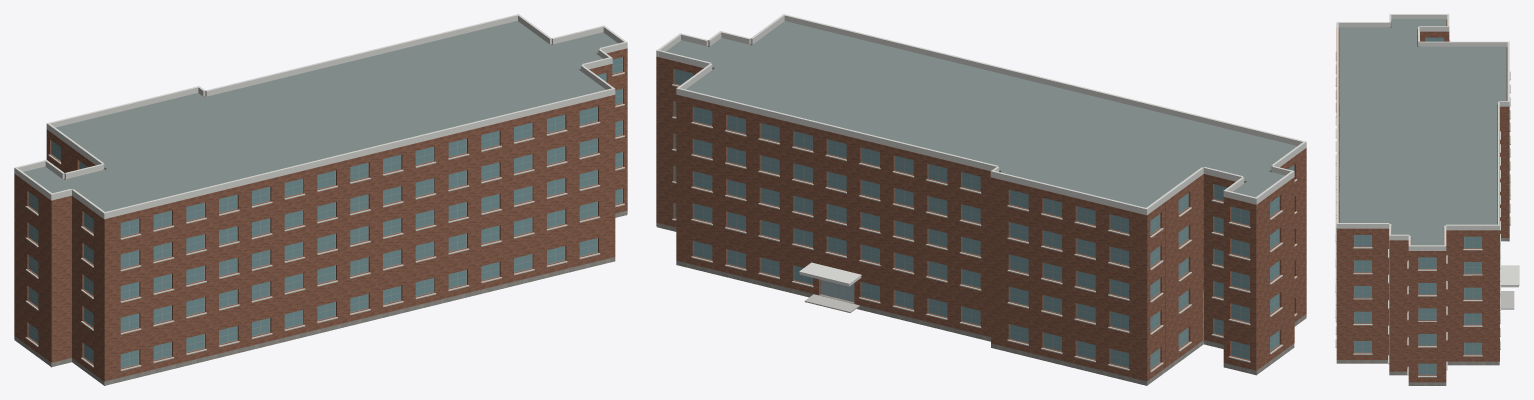
3 views of the same model, side by side, from view 1: azimuth 30°, elevation 25°; view 2: azimuth 150°, elevation 25°; view 3: azimuth 270°, elevation 25° (orthographic). The views are drawn at different scales.
Parts seen in each view (by area): view 1: eng2__wall, eng2__roof, eng2__glass, eng2__cap, eng2__frame, eng2__band, eng2__plinth, eng2__foundation; view 2: eng2__wall, eng2__roof, eng2__glass, eng2__cap, eng2__frame, eng2__band, eng2__plinth, eng2__foundation; view 3: eng2__roof, eng2__wall, eng2__cap, eng2__glass, eng2__band, eng2__frame, eng2__plinth, eng2__foundation, eng2__threshold-main.
Boxes of the visible parts, <box> form: eng2__wall: <box>14,44,627,381</box>; eng2__roof: <box>23,21,617,211</box>; eng2__glass: <box>29,57,622,367</box>; eng2__cap: <box>14,14,627,219</box>; eng2__frame: <box>28,57,622,368</box>; eng2__band: <box>25,72,624,371</box>; eng2__plinth: <box>14,210,627,384</box>; eng2__foundation: <box>14,211,627,385</box>; eng2__wall: <box>656,44,1306,381</box>; eng2__roof: <box>666,21,1297,207</box>; eng2__glass: <box>675,69,1293,368</box>; eng2__cap: <box>656,14,1306,284</box>; eng2__frame: <box>674,69,1294,368</box>; eng2__band: <box>672,84,1297,372</box>; eng2__plinth: <box>656,222,1306,384</box>; eng2__foundation: <box>656,223,1306,385</box>; eng2__roof: <box>1339,19,1506,245</box>; eng2__wall: <box>1336,19,1509,382</box>; eng2__cap: <box>1336,14,1519,285</box>; eng2__glass: <box>1354,30,1497,374</box>; eng2__band: <box>1335,39,1510,377</box>; eng2__frame: <box>1354,37,1481,375</box>; eng2__plinth: <box>1336,227,1509,384</box>; eng2__foundation: <box>1336,240,1509,385</box>; eng2__threshold-main: <box>1500,291,1514,309</box>.
Bounding box in the file's own units: 68.54 × 19.13 × 22.84.
Materials: 12 (4 with a texture image).
